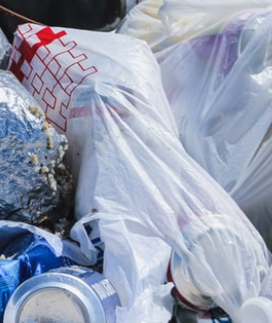garbage: (3, 13, 272, 321)
